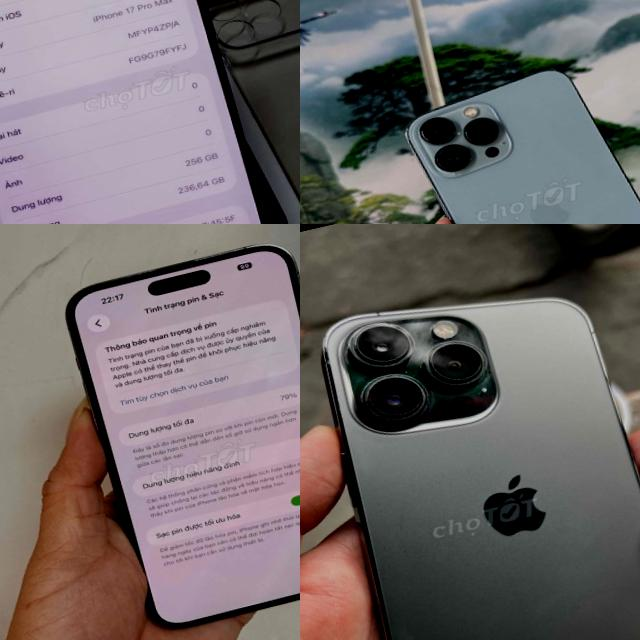gen_12_13: (303, 250, 640, 640), (380, 44, 640, 224)
gen_14: (54, 233, 300, 635)
gen_17: (0, 0, 300, 224)
